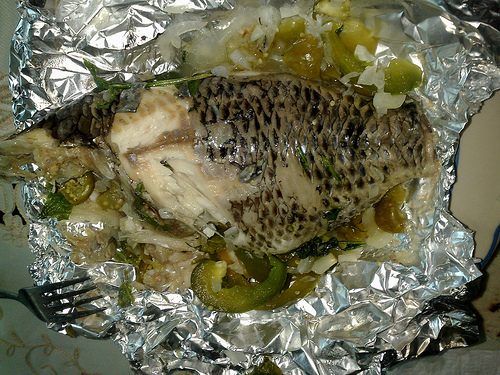fish: (4, 72, 443, 260)
